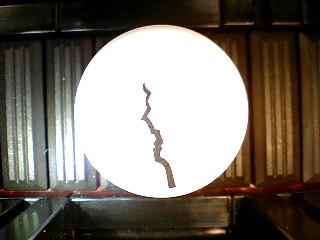CRACK: (73, 23, 249, 199)
